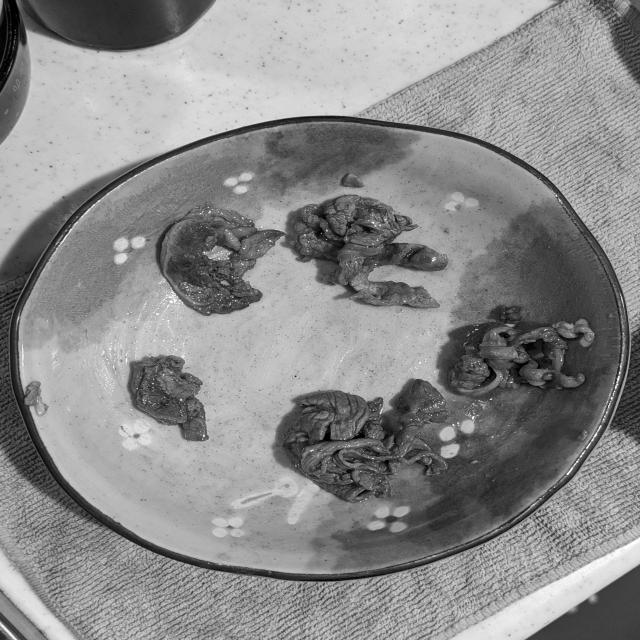OK cooked beef,: (278, 377, 453, 507), (288, 193, 462, 315), (152, 192, 296, 325), (450, 305, 602, 405), (123, 351, 221, 449)
